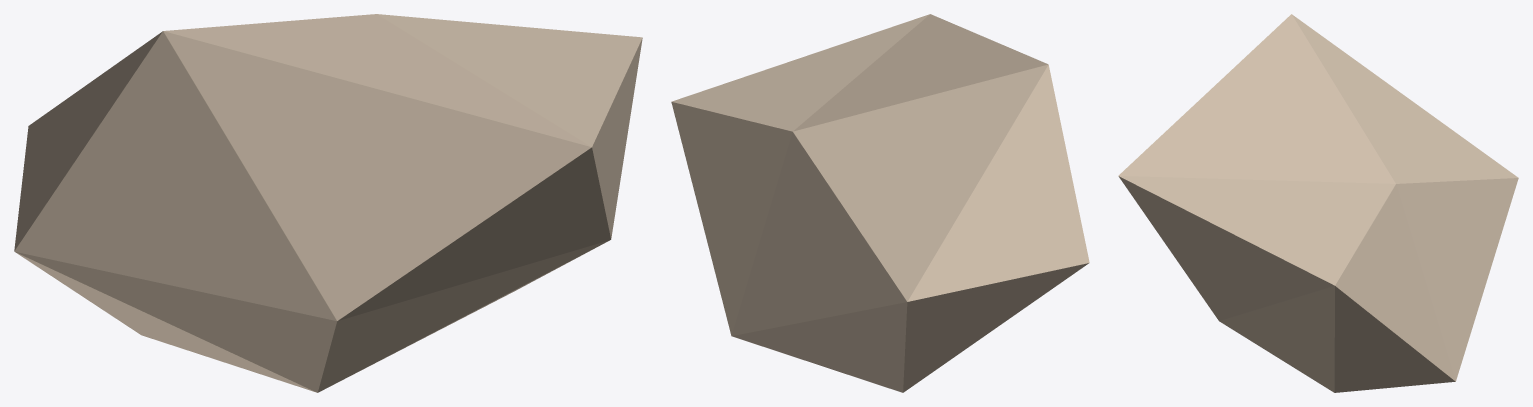
The model's file is Forest_Rock3.fbx.
3 renders of one model, left to right at view 1: azimuth 30°, elevation 25°; view 2: azimuth 150°, elevation 25°; view 3: azimuth 270°, elevation 25°, orthographic. The views are drawn at different scales.
Visible parts, largest first — view 1: Icosphere.001; view 2: Icosphere.001; view 3: Icosphere.001.
Part boxes in pixels (<box>): Icosphere.001: <box>14,14,642,392</box>; Icosphere.001: <box>671,14,1089,392</box>; Icosphere.001: <box>1118,14,1518,392</box>.
Size of the model in its own units: 191 by 122 by 160.
